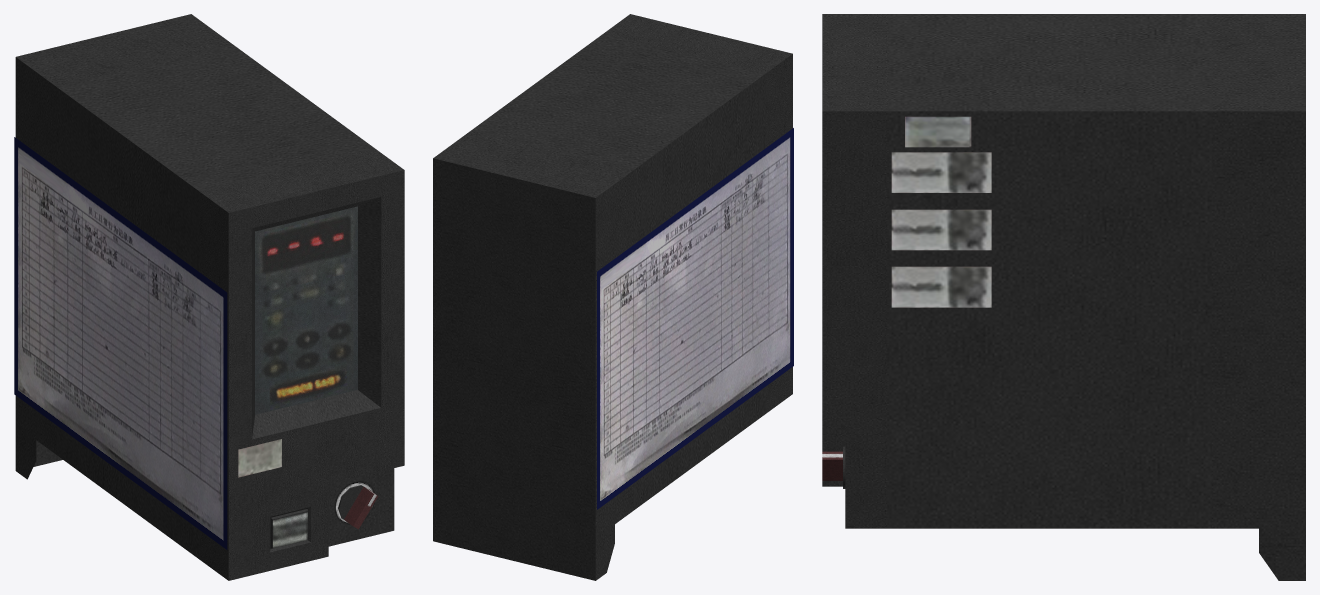
Rendered from caozuo.FBX.
3 renders of one model, left to right at view 1: azimuth 30°, elevation 25°; view 2: azimuth 150°, elevation 25°; view 3: azimuth 270°, elevation 25°, orthographic. The views are drawn at different scales.
Visible parts, largest first — view 1: YF_Model_caozuo; view 2: YF_Model_caozuo; view 3: YF_Model_caozuo.
Part boxes in pixels (bbox=[...]): YF_Model_caozuo: bbox=[14, 14, 404, 580]; YF_Model_caozuo: bbox=[433, 14, 793, 580]; YF_Model_caozuo: bbox=[822, 14, 1305, 580].
Bounding box in the file's own units: 20.14 × 45 × 42.01.
